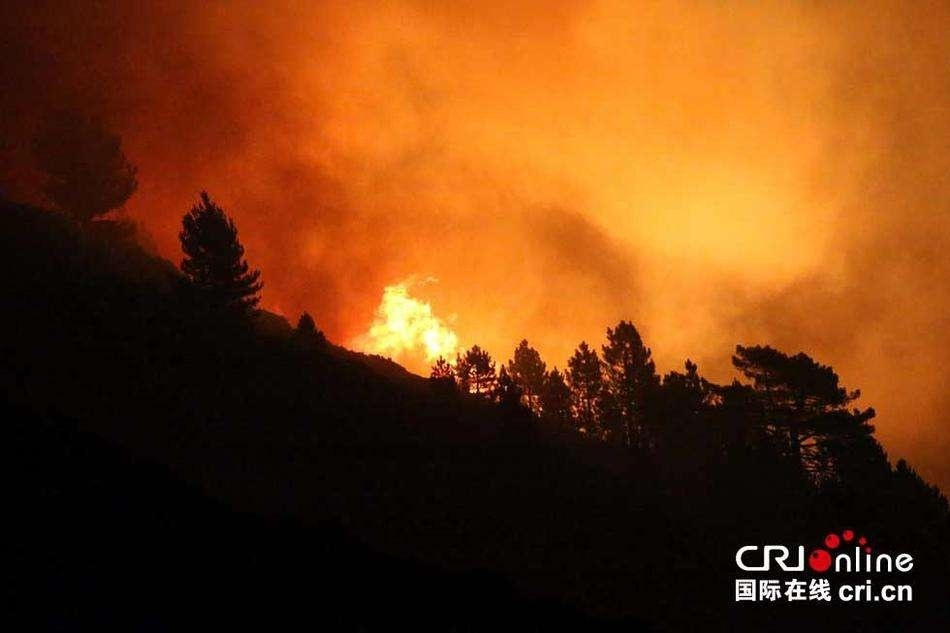fire: (353, 275, 466, 379)
